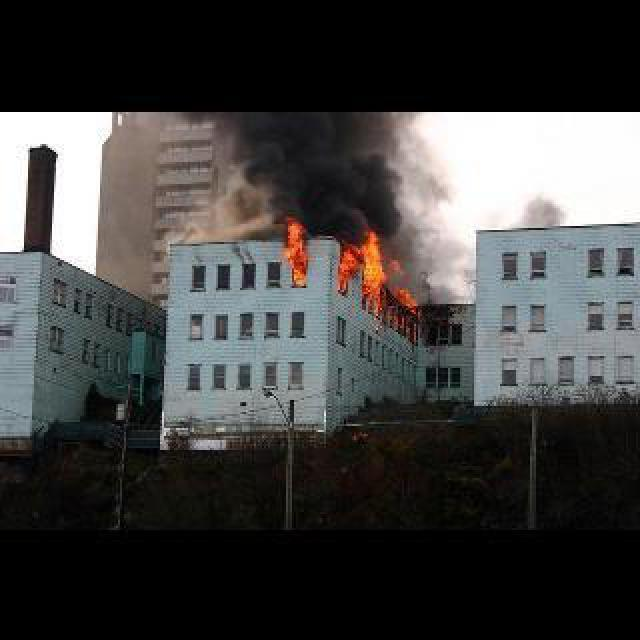Fire: (284, 232, 430, 300)
